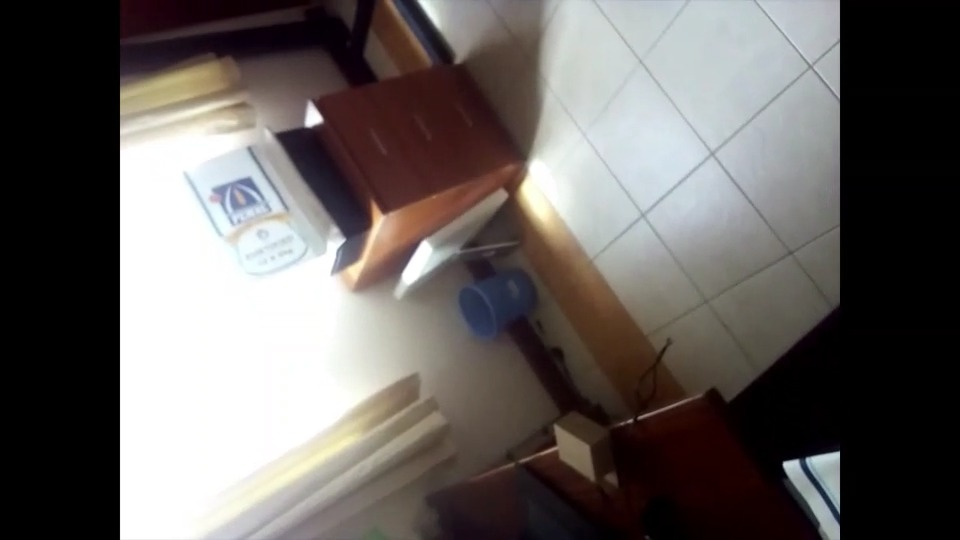wheat_flour_blue_label: (189, 121, 344, 275)
